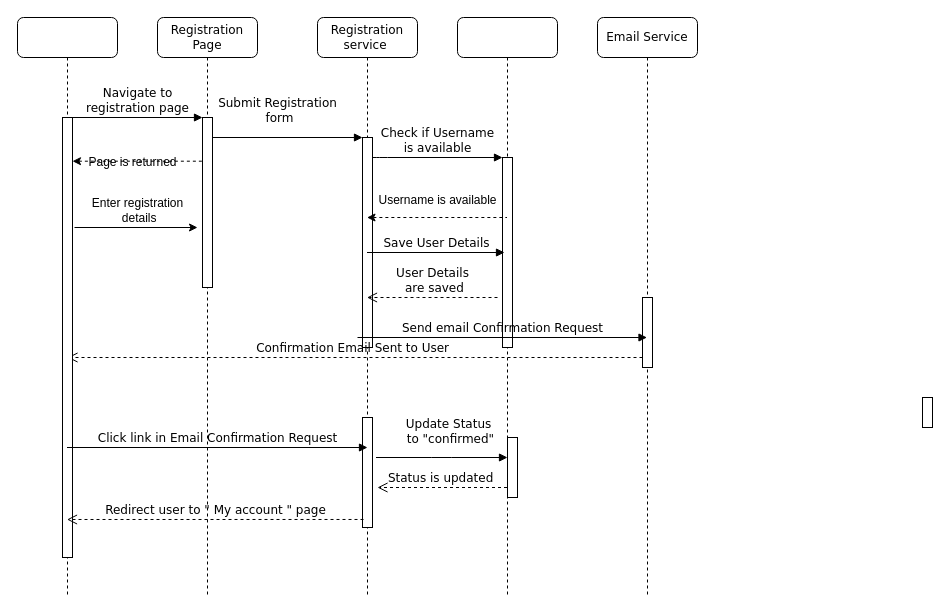
This 950x615 diagram has some shape labels left out. The shapes that lost their labels are listed below. From the top down, each one's box as (x1, y1, x2, y2) in pixels, then its label:
(16, 16, 118, 598): User(Actor)
(456, 16, 558, 598): Database
